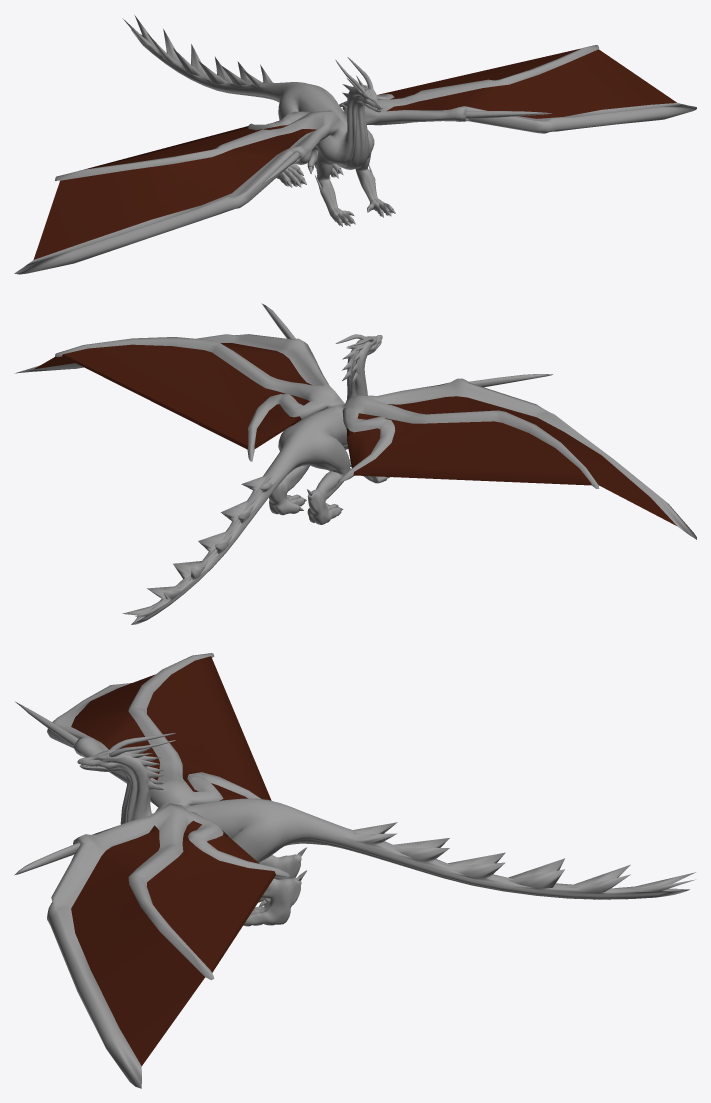
The model's file is dragon.obj.
3 views of the same model, one above another, from view 1: azimuth 30°, elevation 25°; view 2: azimuth 150°, elevation 25°; view 3: azimuth 270°, elevation 25° (orthographic). The views are drawn at different scales.
Parts seen in each view (by area): view 1: Dragon_Cube.004; view 2: Dragon_Cube.004; view 3: Dragon_Cube.004.
Part boxes in pixels (box(x1,y1,x2,y2)): Dragon_Cube.004: box(14, 15, 696, 274); Dragon_Cube.004: box(14, 303, 696, 624); Dragon_Cube.004: box(14, 653, 695, 1088).
Size of the model in its own units: 26.27 by 5.28 by 18.63.
